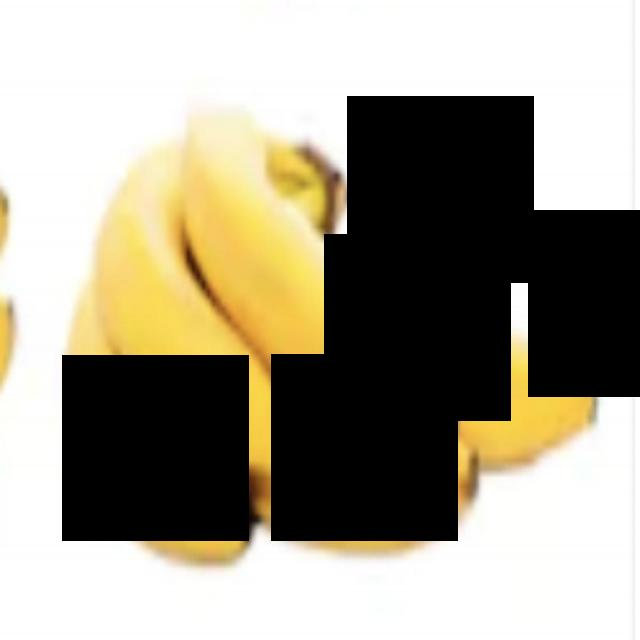banana: (166, 51, 487, 454), (84, 116, 334, 527), (45, 248, 310, 614)
